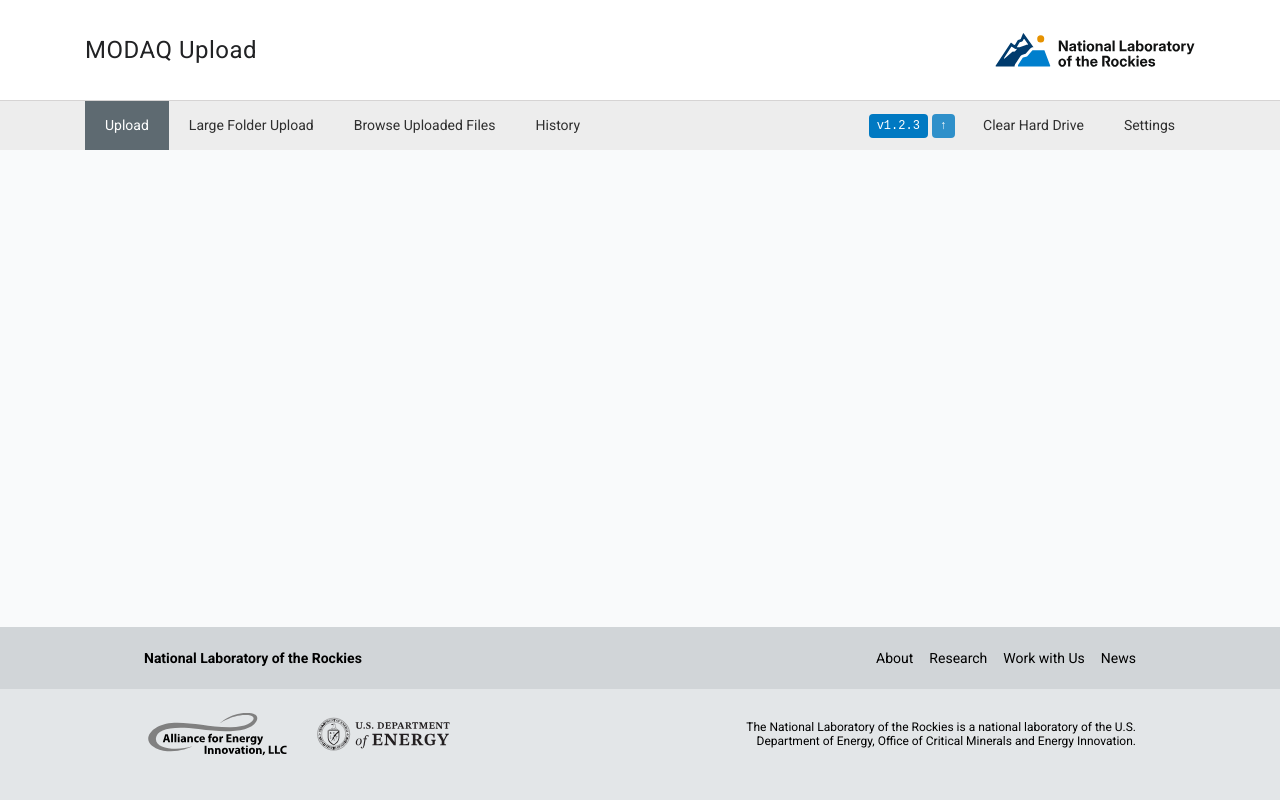
Scenario: Layout › opens AboutModal when version badge is clicked
Click the button "v1.2.3". click: click(898, 126)
box: x1=869 y1=114 x2=928 y2=138
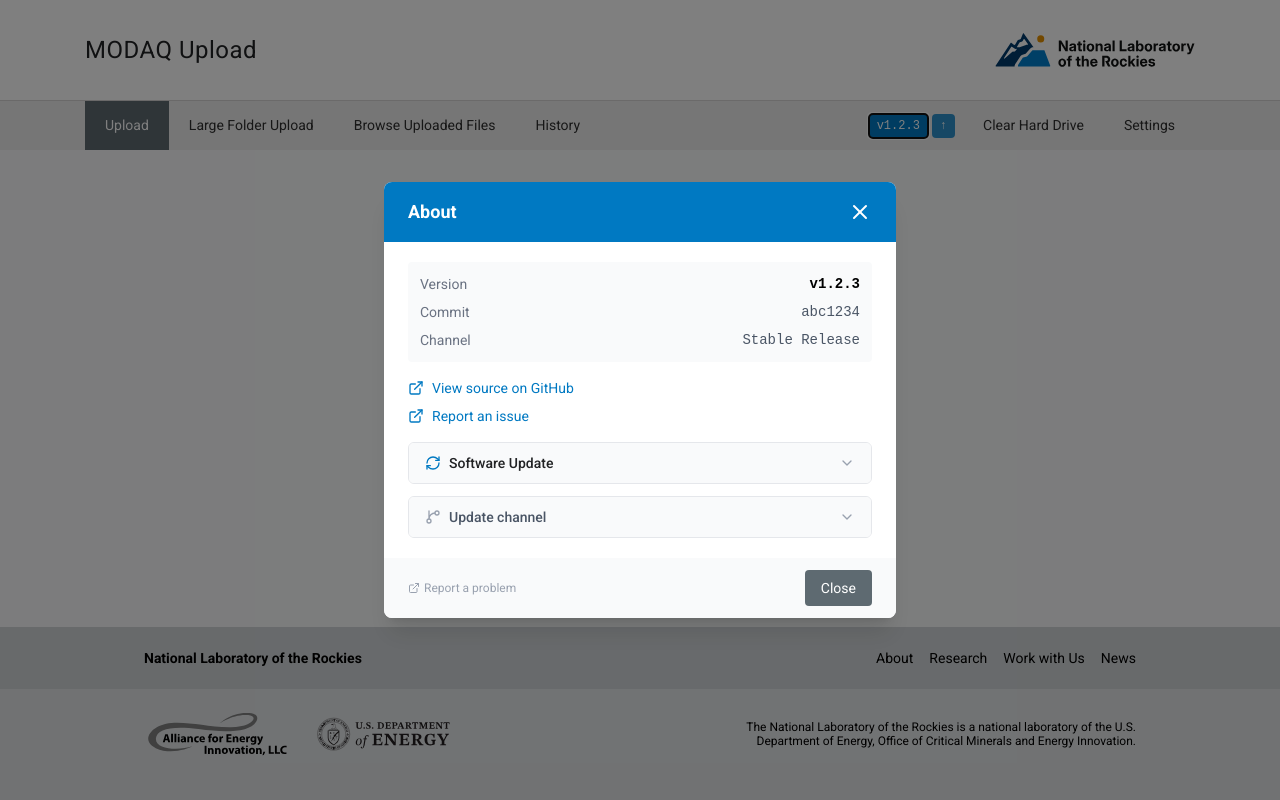
Expected: the element with test id "modal-backdrop" is shown
Expected: the heading "About" is shown, x1=408 y1=198 x2=457 y2=226
Expected: the text "abc1234" is shown, x1=801 y1=302 x2=860 y2=322
